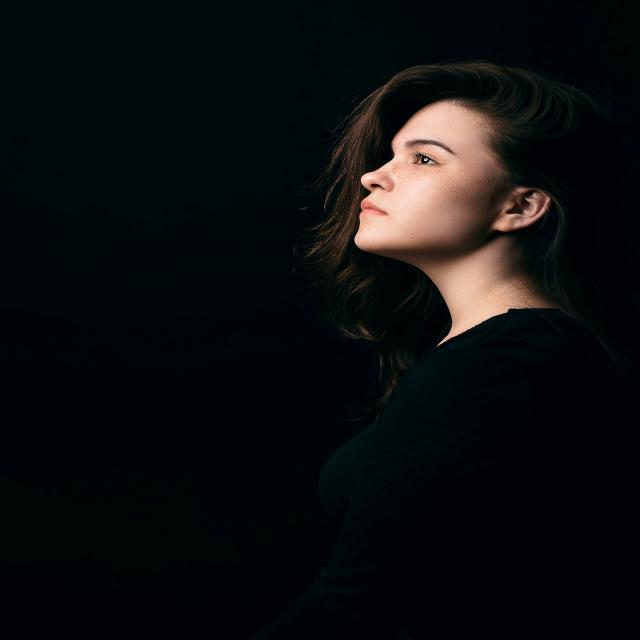adult: (294, 58, 637, 640)
